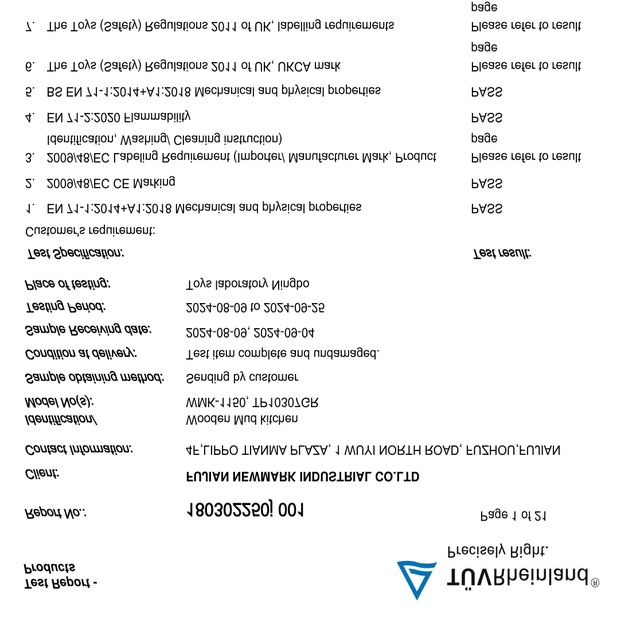tuv_rheinland: (393, 557, 605, 600)
